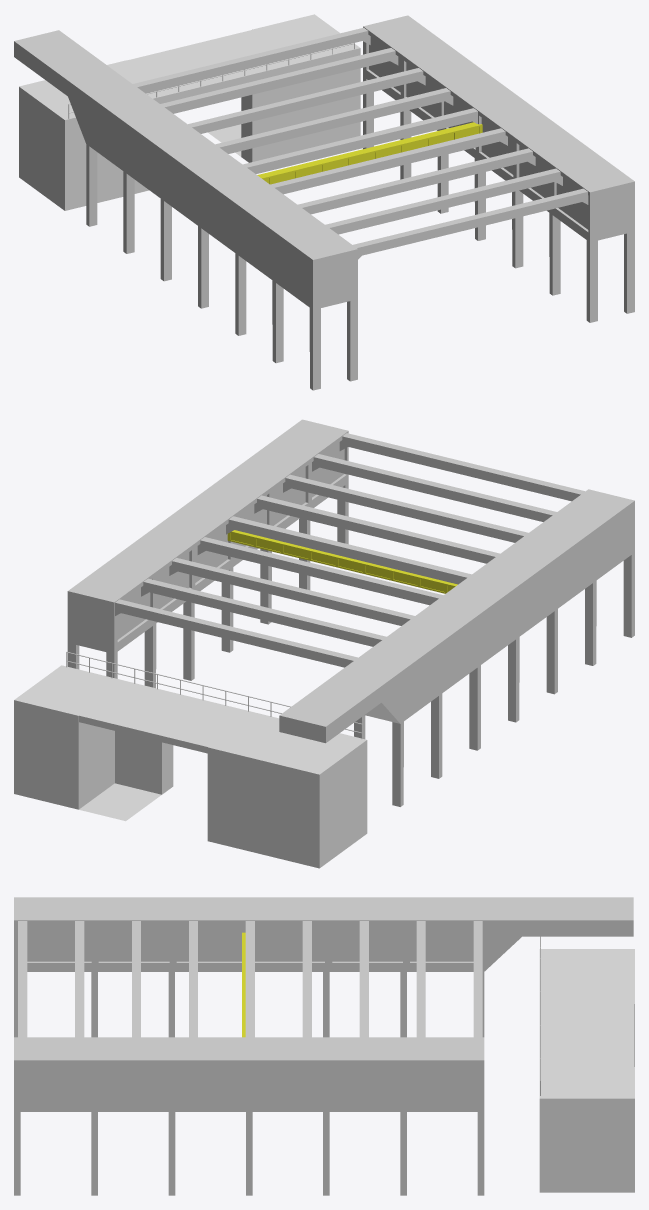
The model's file is Scale.fbx_Halle.fbx.
The picture shows the model from 3 angles, top to bottom: view 1: azimuth 30°, elevation 25°; view 2: azimuth 150°, elevation 25°; view 3: azimuth 270°, elevation 25°; orthographic projection. The views are drawn at different scales.
Parts seen in each view (by area): view 1: Cube.011, Cube.023, Cube.001, Cube.005, Cube.004, Cube.022; view 2: Cube.011, Cube.023, Cube.001, Cube.005, Cube.004, Cube.022, Cylinder.054; view 3: Cube.011, Cube.001, Cube.005, Cube.023, Cube.004.
Boxes of the visible parts, <box> form: Cube.011: <box>14,30,357,390</box>; Cube.023: <box>133,27,588,259</box>; Cube.001: <box>363,15,634,322</box>; Cube.005: <box>125,14,360,162</box>; Cube.004: <box>19,60,172,210</box>; Cube.022: <box>257,122,482,184</box>; Cube.011: <box>279,489,634,806</box>; Cube.023: <box>115,433,584,667</box>; Cube.001: <box>67,419,348,688</box>; Cube.005: <box>14,665,258,821</box>; Cube.004: <box>207,713,367,868</box>; Cube.022: <box>227,530,457,593</box>; Cylinder.054: <box>66,652,361,733</box>; Cube.011: <box>14,897,633,1037</box>; Cube.001: <box>14,1037,484,1195</box>; Cube.005: <box>539,1002,634,1192</box>; Cube.023: <box>18,921,482,1037</box>; Cube.004: <box>539,949,634,1066</box>.
Size of the model in its own units: 31.42 by 50.66 by 12.87.
